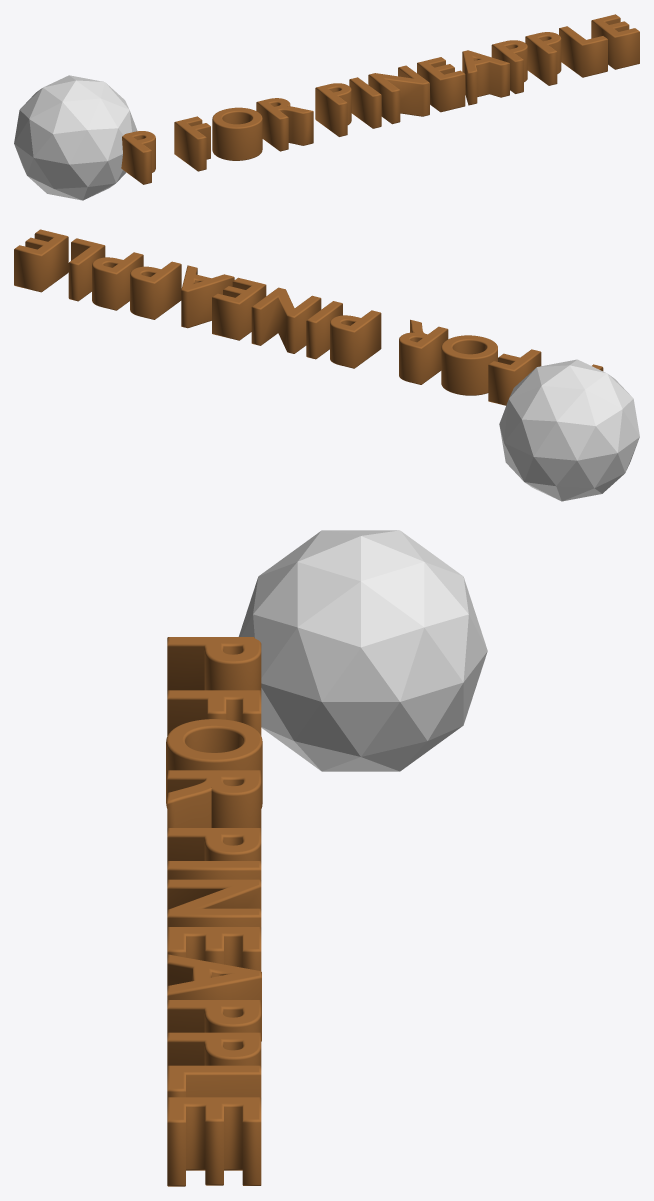
File: PINEAPPLE TEXT.fbx
The picture shows the model from 3 angles, top to bottom: view 1: azimuth 30°, elevation 25°; view 2: azimuth 150°, elevation 25°; view 3: azimuth 270°, elevation 25°; orthographic projection. The views are drawn at different scales.
Parts seen in each view (by area): view 1: Text.001, Icosphere; view 2: Text.001, Icosphere; view 3: Text.001, Icosphere.
Part boxes in pixels (left/top/right/bottom): Text.001: left=121, top=14, right=639, bottom=184; Icosphere: left=14, top=75, right=137, bottom=200; Text.001: left=14, top=229, right=603, bottom=405; Icosphere: left=499, top=359, right=639, bottom=501; Text.001: left=166, top=637, right=262, bottom=1186; Icosphere: left=238, top=530, right=487, bottom=771.
Bounding box in the file's own units: 1034 × 200 × 254.
